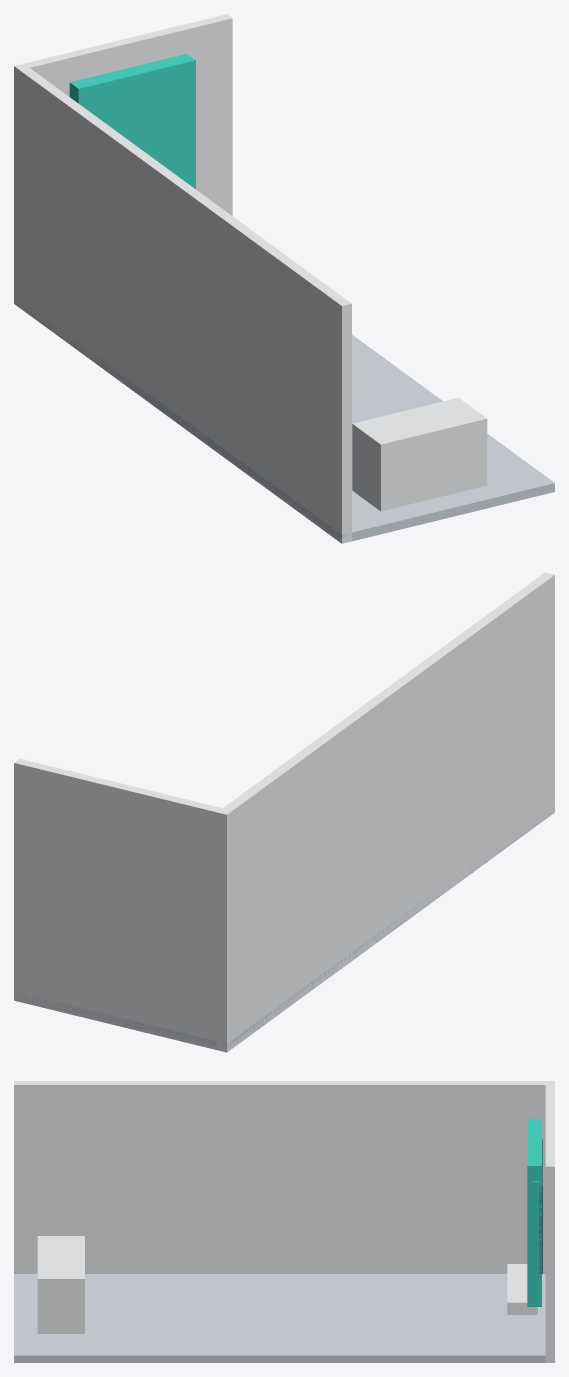
The picture shows the model from 3 angles, top to bottom: view 1: azimuth 30°, elevation 25°; view 2: azimuth 150°, elevation 25°; view 3: azimuth 270°, elevation 25°; orthographic projection. The views are drawn at different scales.
Visible parts, largest first — view 1: Exhibition Booth Concept; view 2: Exhibition Booth Concept; view 3: Exhibition Booth Concept.
Part boxes in pixels (left/top/right/bottom): Exhibition Booth Concept: left=14, top=14, right=554, bottom=543; Exhibition Booth Concept: left=14, top=572, right=554, bottom=1052; Exhibition Booth Concept: left=14, top=1081, right=554, bottom=1362.
Size of the model in its own units: 3 by 3.2 by 8.
